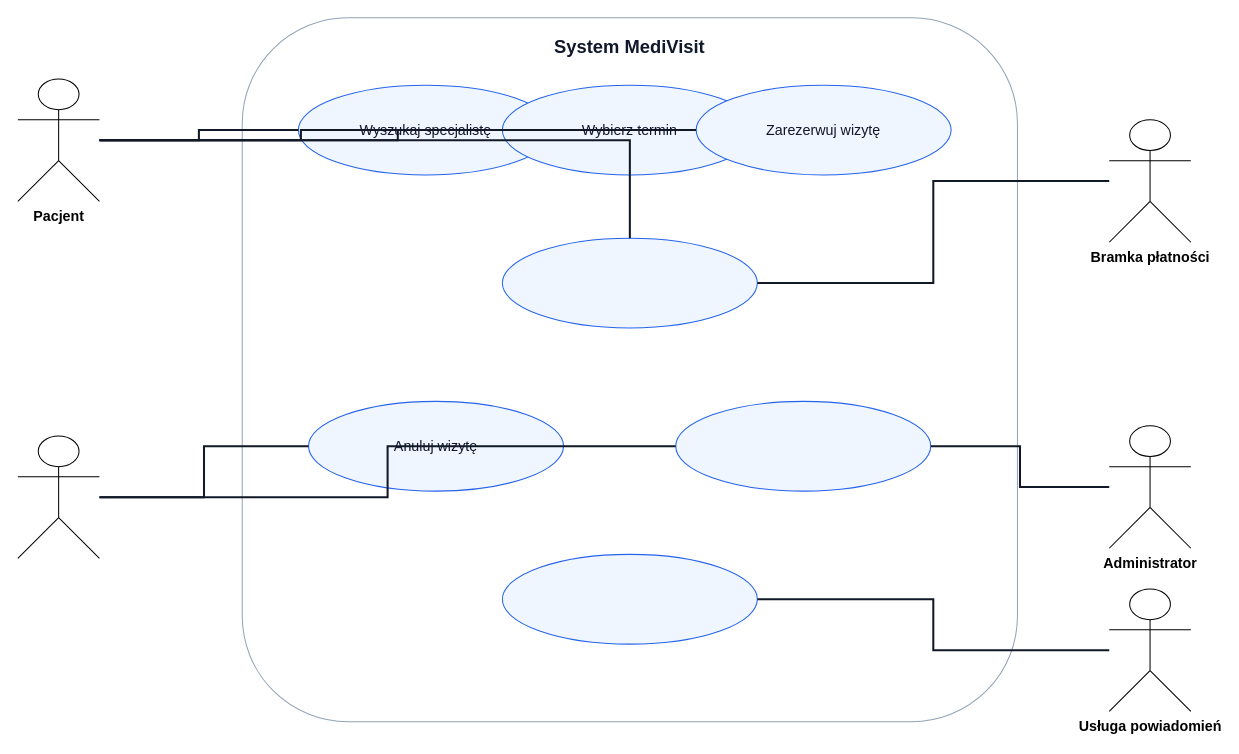
The diagram is 1239 pixels wide and 754 high, and some of its shapes have lost their labels. Each missing label, with the centre of its shape:
Opłać przedpłatę: pixel 629 282
Recepcja: pixel 58 496
Wyślij potwierdzenie: pixel 629 598
Zarządzaj harmonogramem: pixel 803 445
